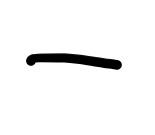minus: (27, 52, 122, 70)
